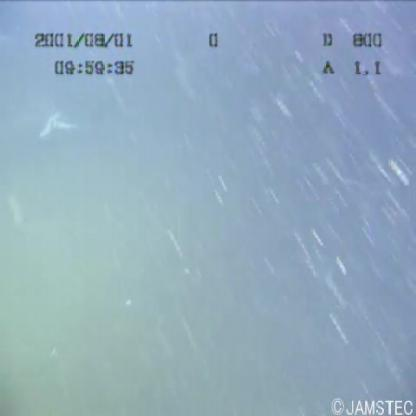Rác: (27, 104, 89, 140)
